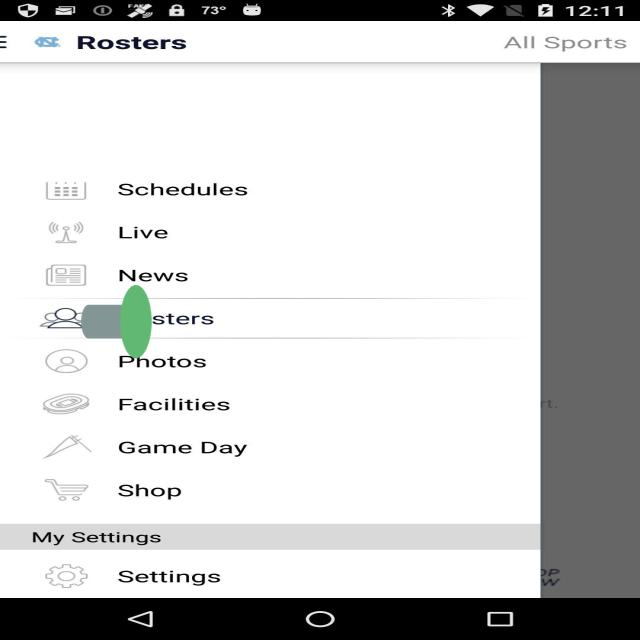social proof: (81, 240, 152, 403)
